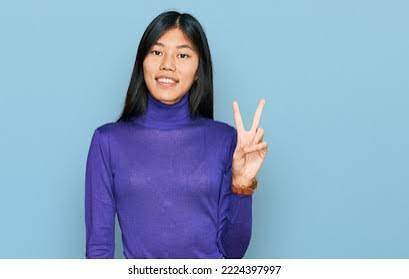peace_sign: (229, 96, 269, 181)
